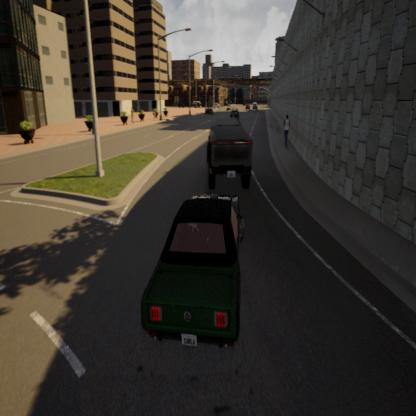Cars: (134, 168, 260, 368), (198, 103, 256, 195), (227, 104, 244, 127), (202, 102, 215, 119), (252, 99, 258, 114), (245, 100, 250, 113)
Pedestrian: (277, 103, 294, 168)
